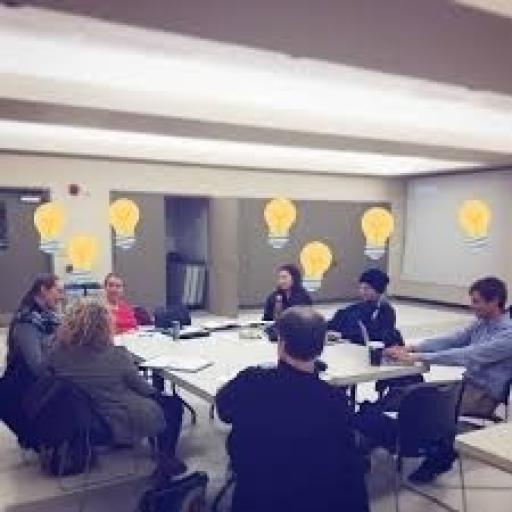sitting: (0, 257, 510, 510), (212, 302, 376, 510), (43, 296, 189, 482)
